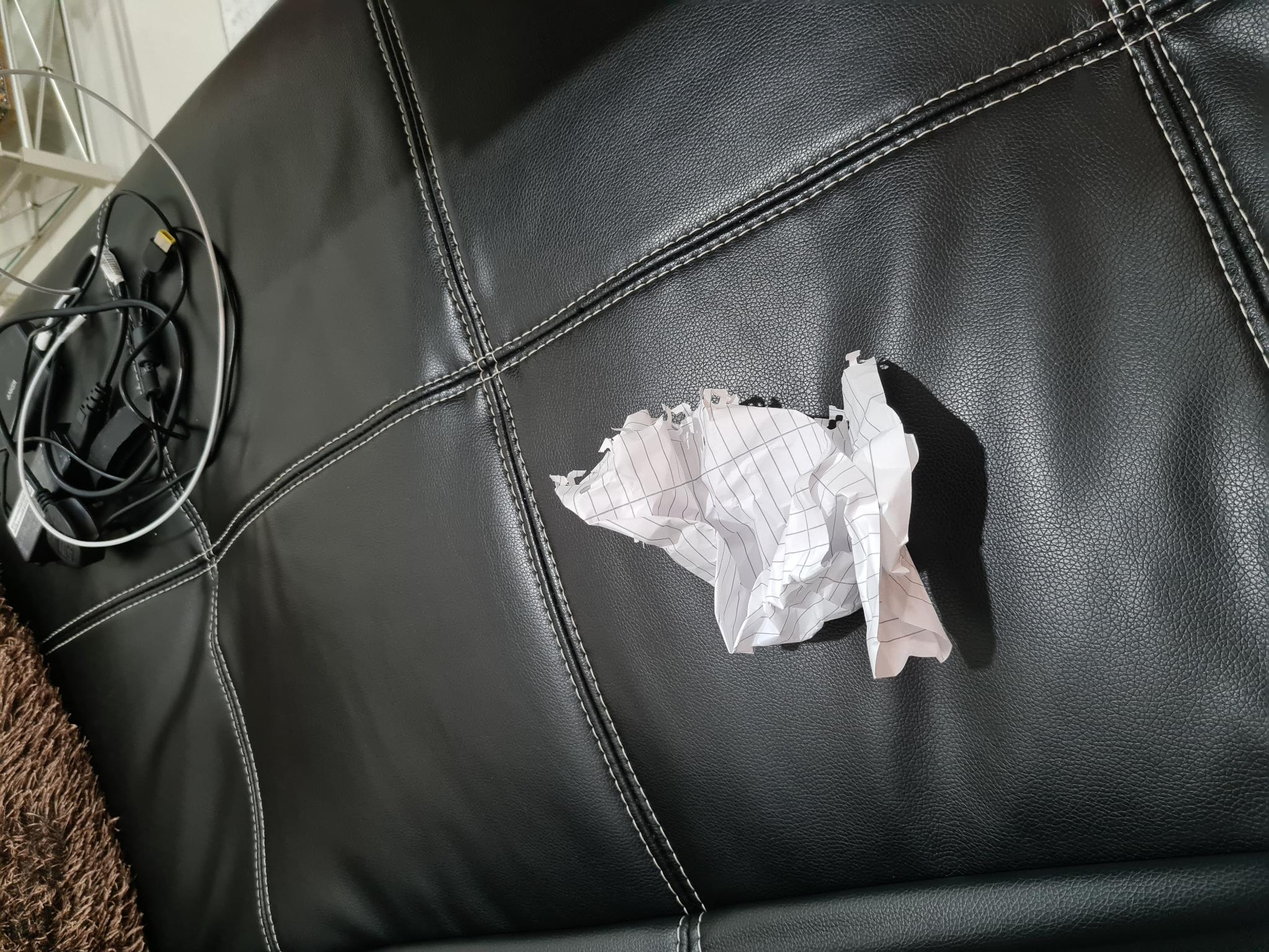Kertas: (284, 575, 611, 952)
